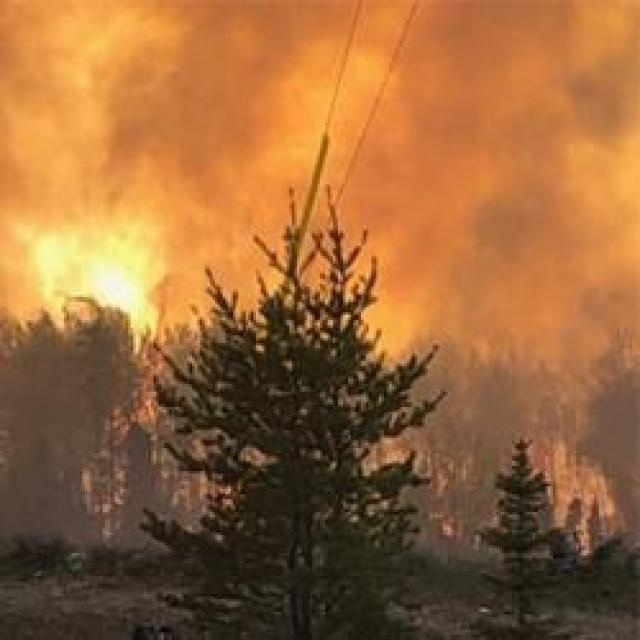fire: (0, 222, 209, 360)
